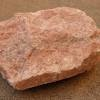obstacle: (0, 7, 95, 89)
